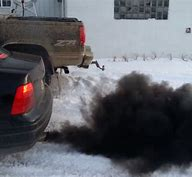smoke: (53, 71, 192, 177)
